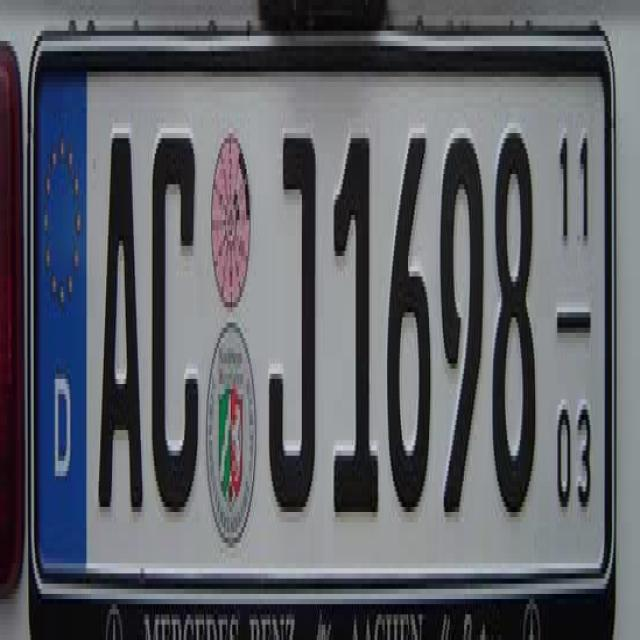Allemagne: (37, 61, 87, 586)
EU: (33, 59, 615, 576)
